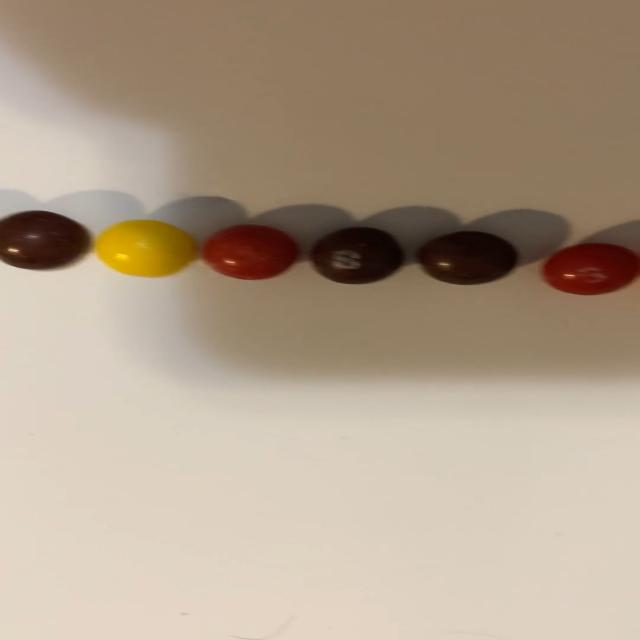smartie: (92, 219, 195, 277), (0, 210, 89, 270), (419, 231, 516, 284), (202, 225, 297, 279), (543, 243, 640, 295), (312, 227, 402, 283)
